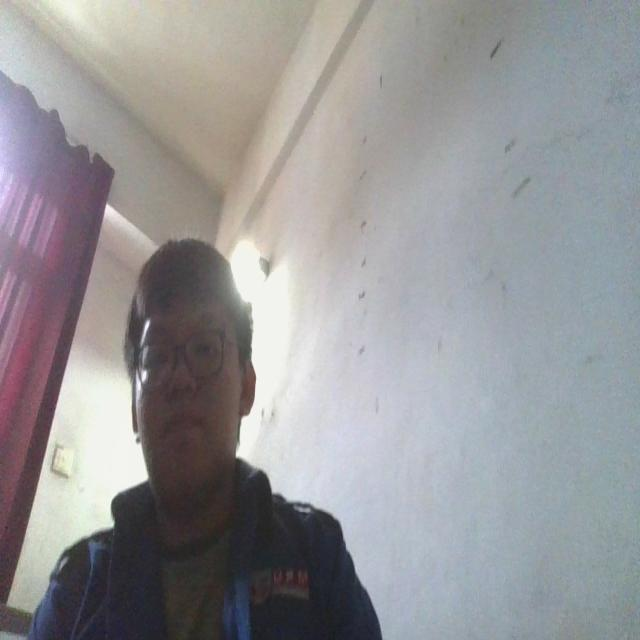person_with_labcoat: (29, 239, 382, 639)
